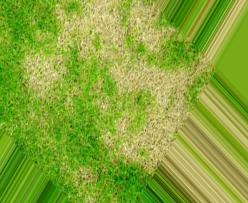patch: (89, 12, 167, 53), (120, 65, 185, 88), (147, 92, 172, 124), (139, 130, 158, 162)
